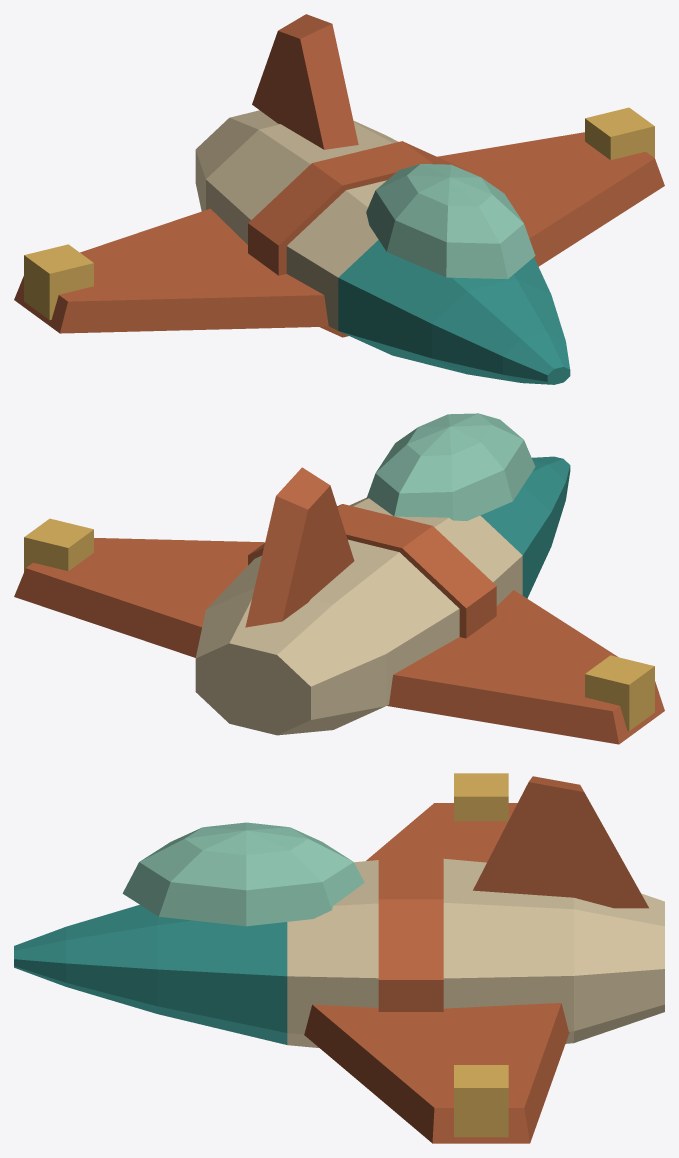
The model's file is skiff.gltf.
3 renders of one model, top to bottom at view 1: azimuth 30°, elevation 25°; view 2: azimuth 150°, elevation 25°; view 3: azimuth 270°, elevation 25°, orthographic. The views are drawn at different scales.
Visible parts, largest first — view 1: body, wings, canopy, fin; view 2: body, wings, canopy, fin; view 3: body, wings, canopy, fin.
Part boxes in pixels (box(x1,y1,x2,y2)): body: box(195, 110, 570, 384); wings: box(14, 107, 664, 333); canopy: box(366, 164, 535, 279); fin: box(252, 14, 358, 149); body: box(195, 456, 570, 735); wings: box(14, 518, 664, 744); canopy: box(366, 413, 535, 520); fin: box(245, 467, 354, 627); body: box(14, 852, 664, 1047); wings: box(304, 773, 569, 1143); canopy: box(122, 822, 364, 926); fin: box(473, 776, 648, 908).
Size of the model in its own units: 4.8 by 1.88 by 4.2.
